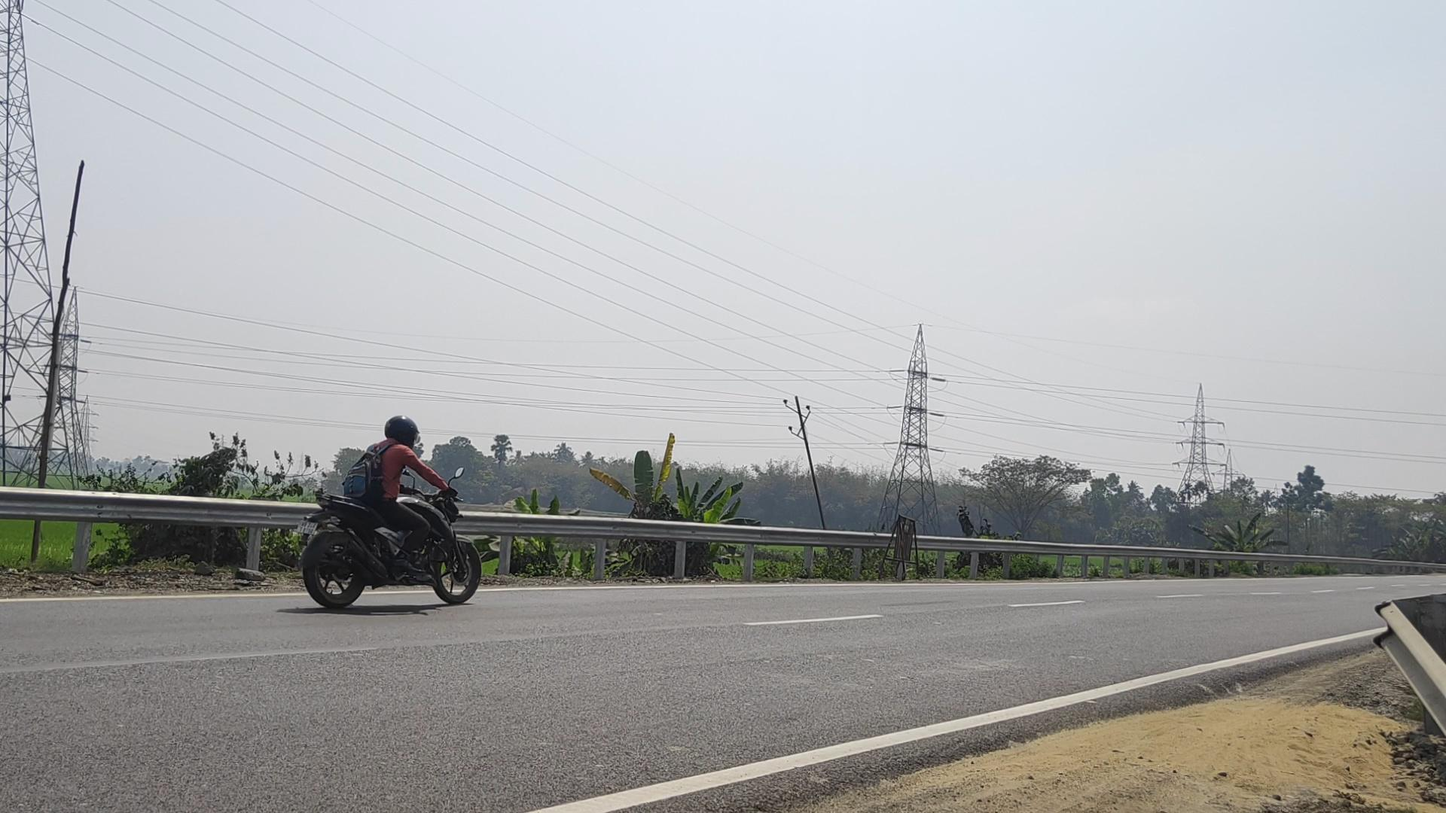bike: (297, 415, 482, 609)
